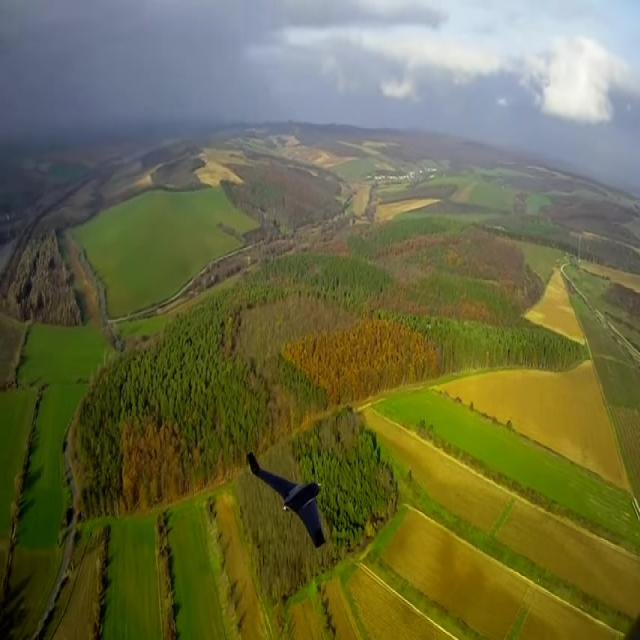iha: (279, 482, 294, 518)
